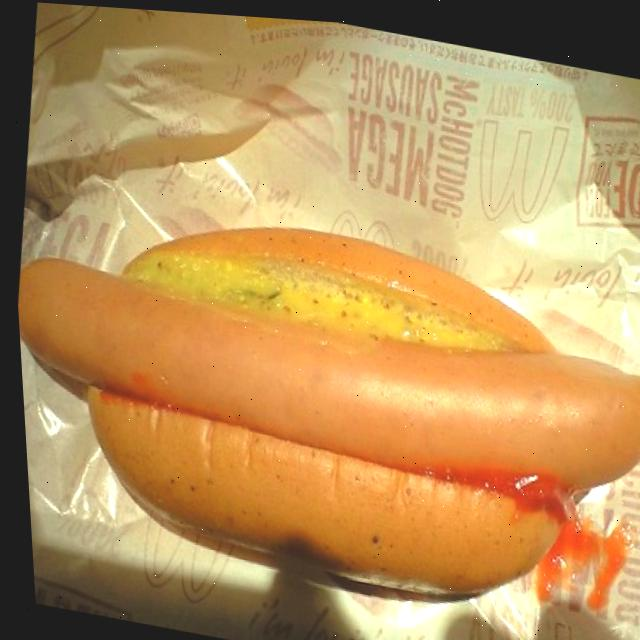汉堡快餐: (7, 158, 640, 640)
